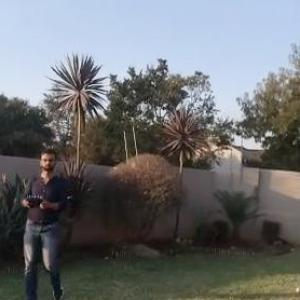follow: (15, 137, 76, 299)
